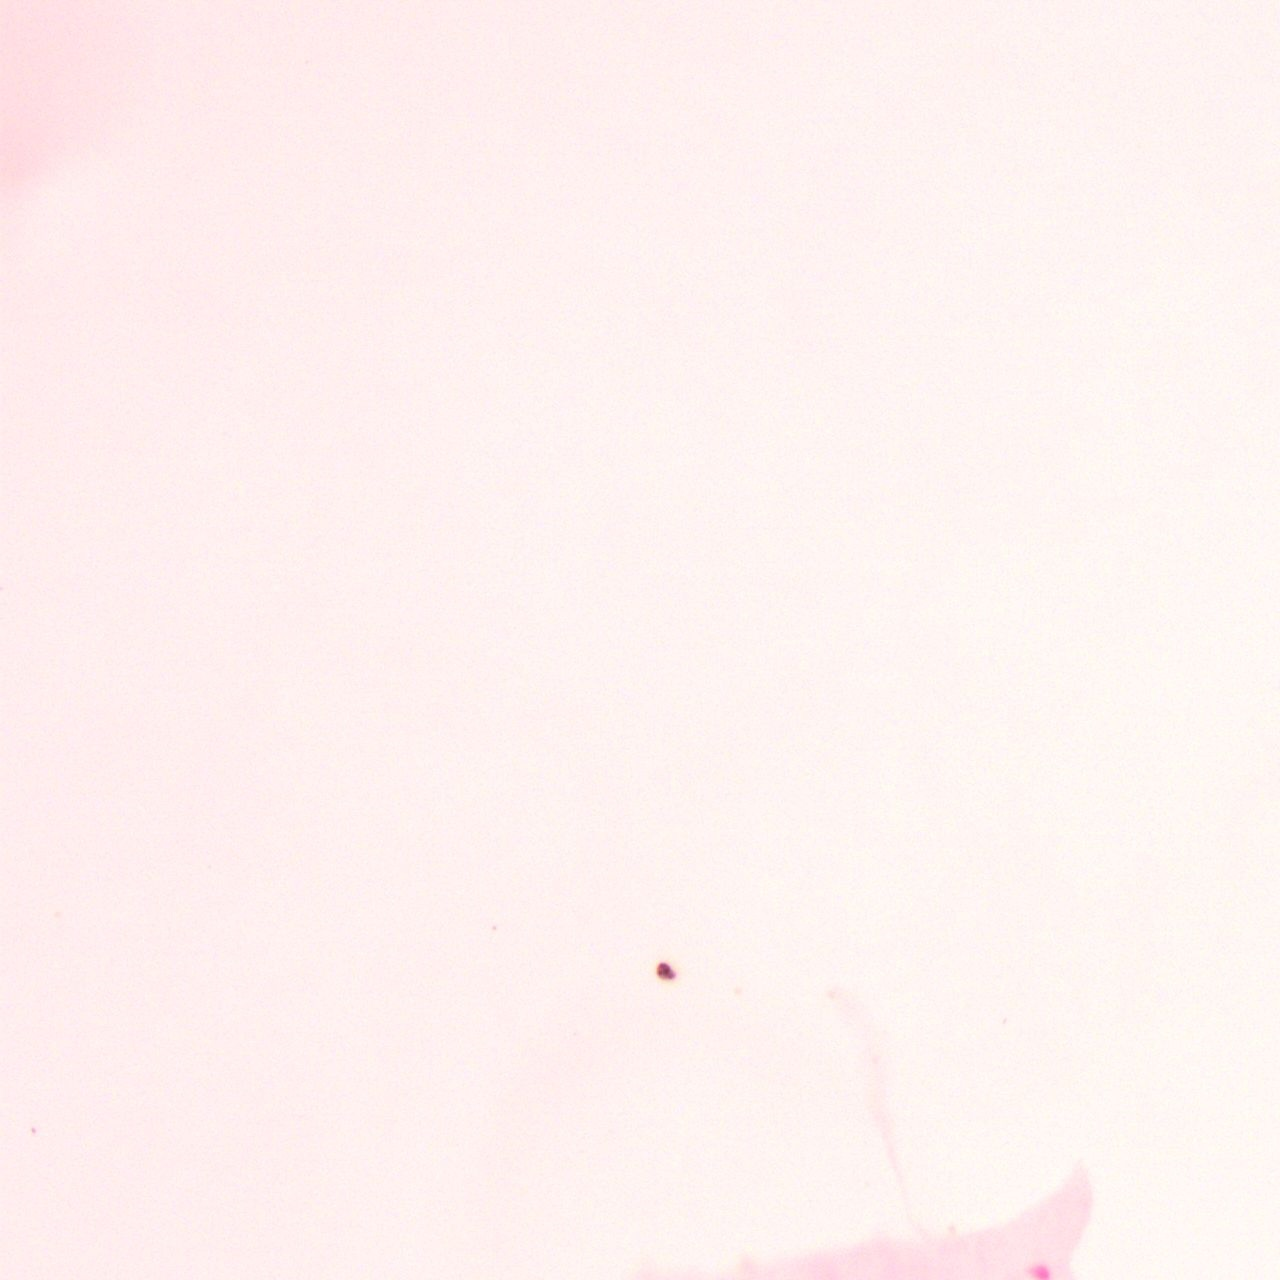dust: (655, 962, 677, 980), (30, 1126, 37, 1133), (492, 925, 496, 930)
